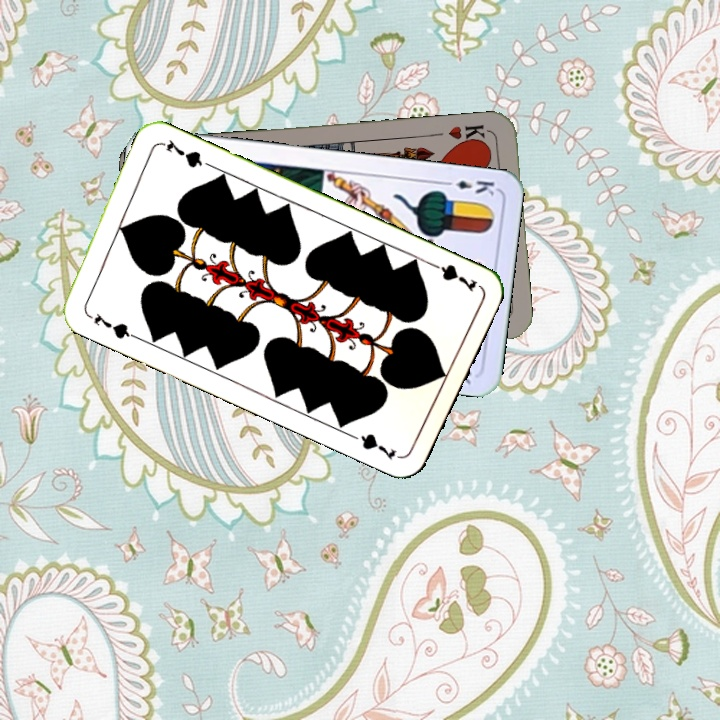EK: (438, 176, 497, 198)
G7: (424, 257, 480, 295), (82, 308, 138, 342)
HK: (444, 121, 492, 148)
